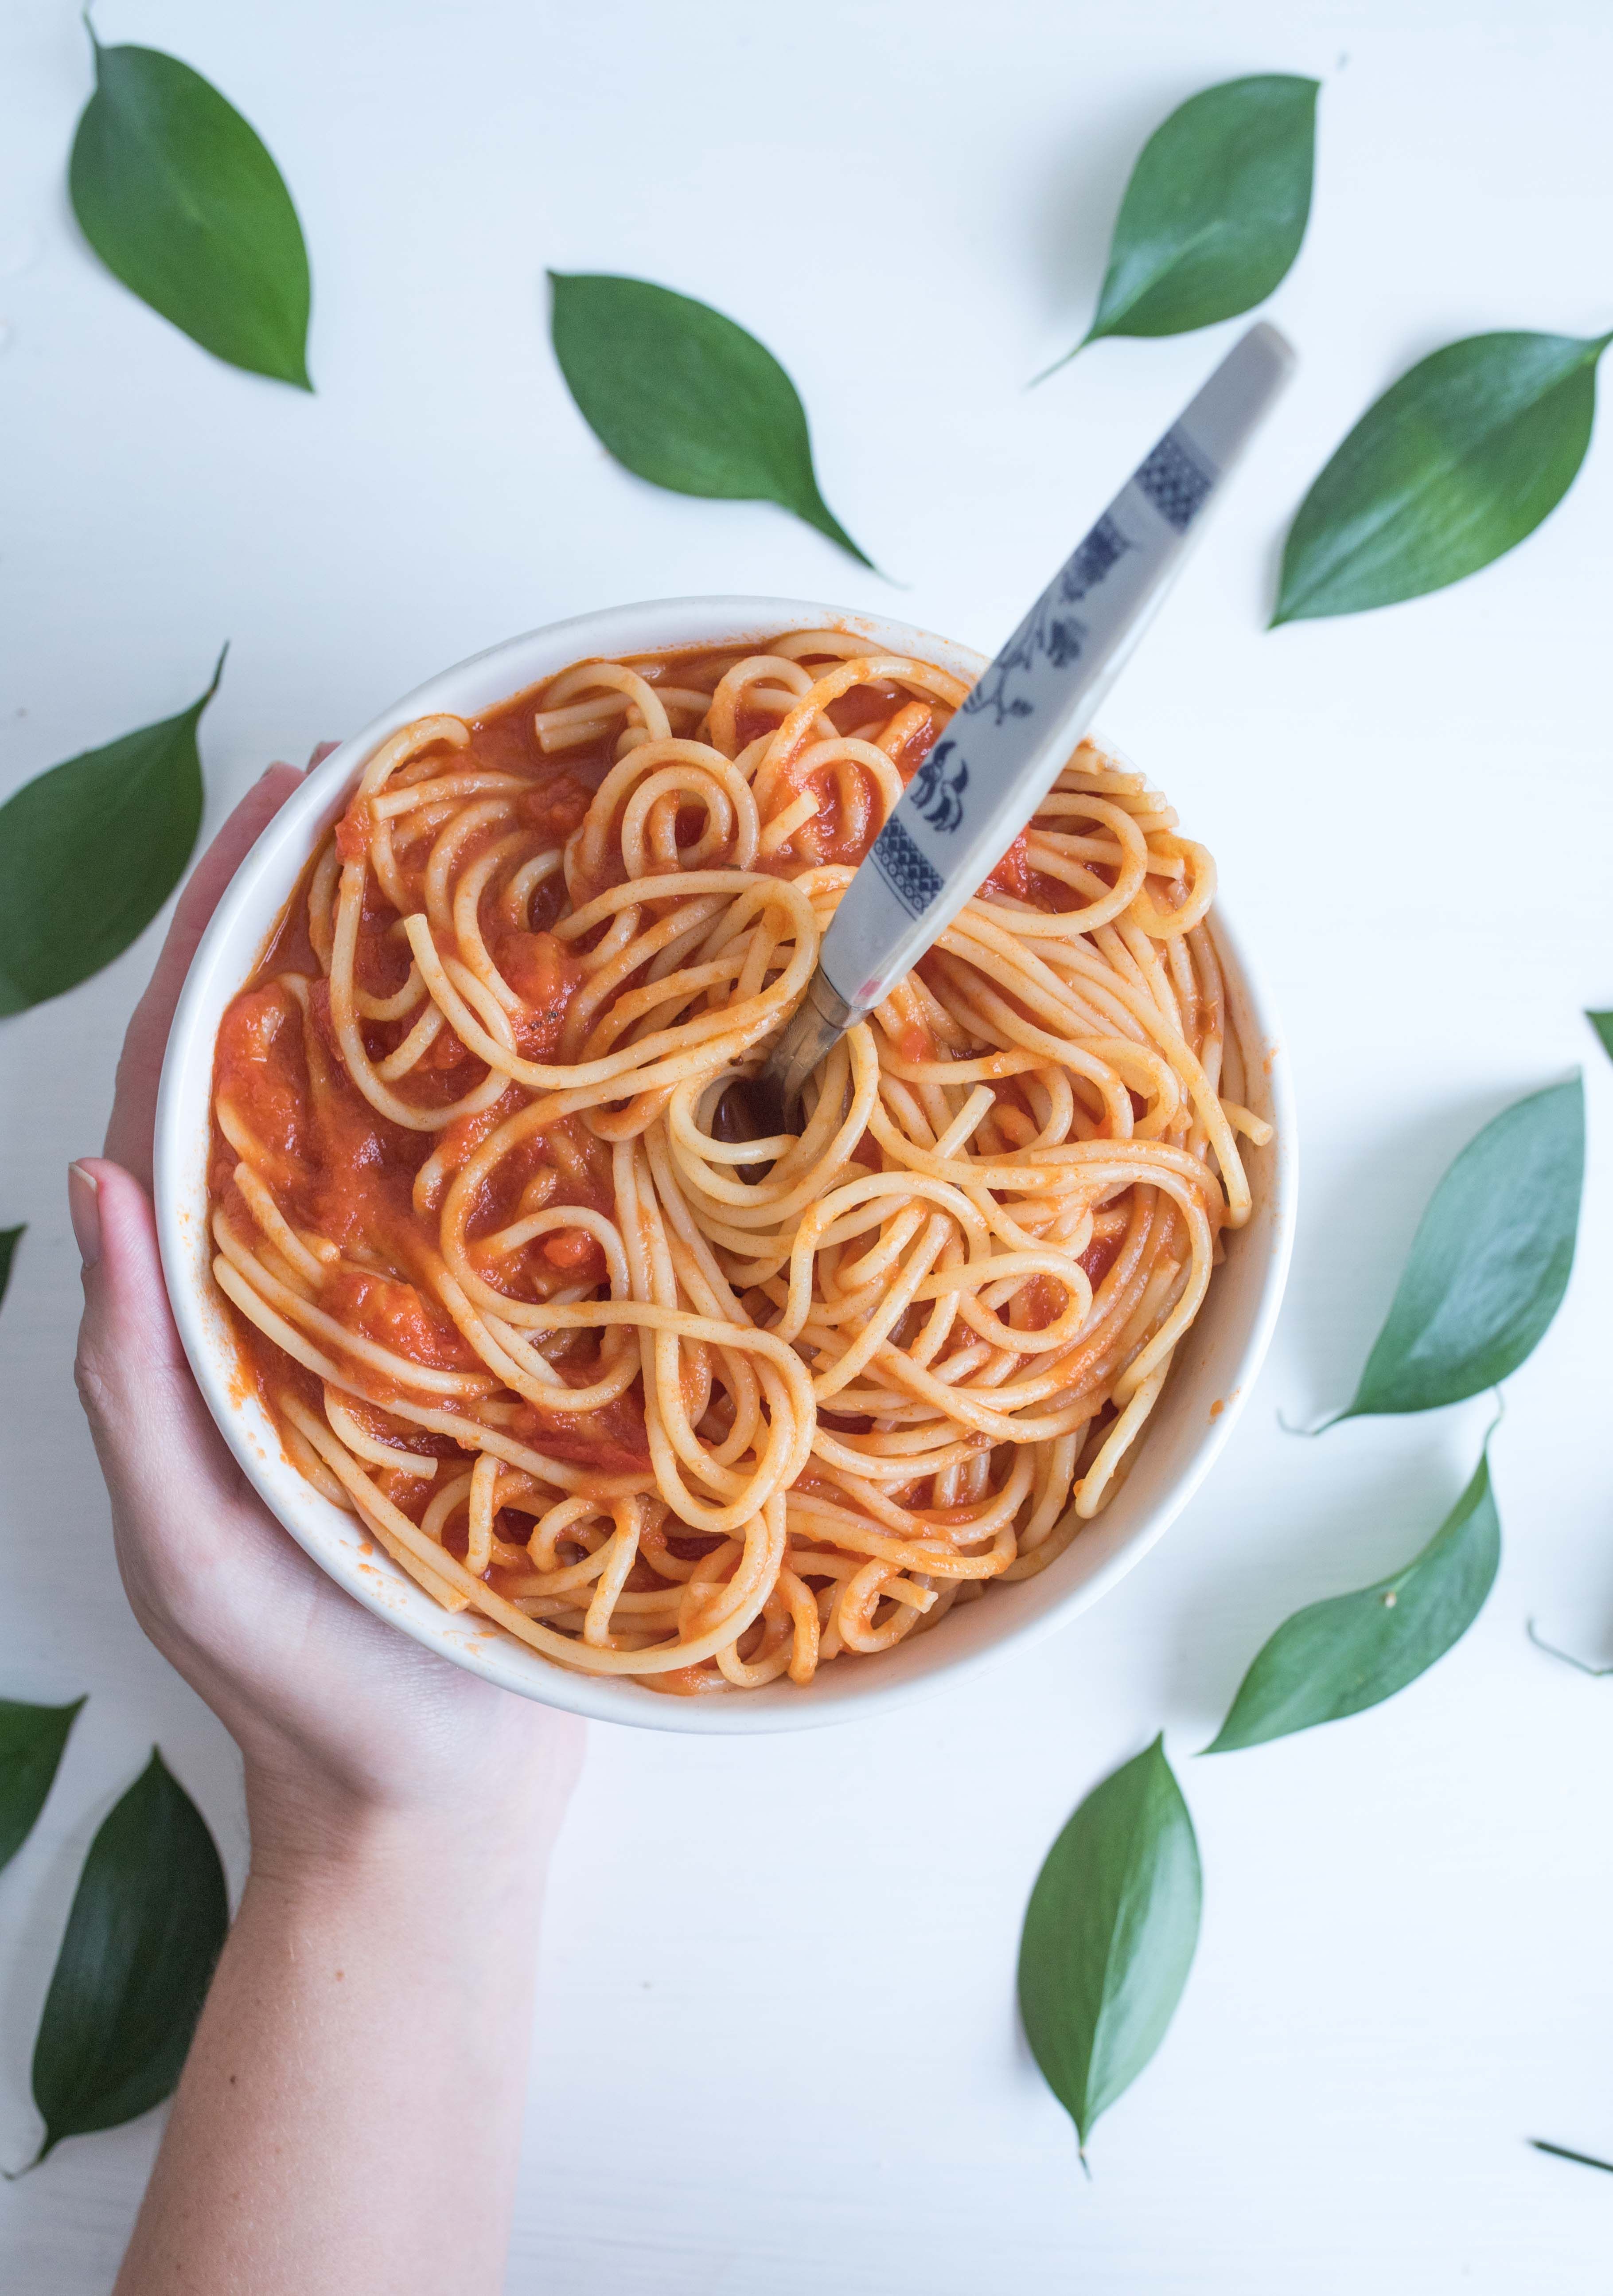plain spaghetti: (285, 780, 1205, 1643)
